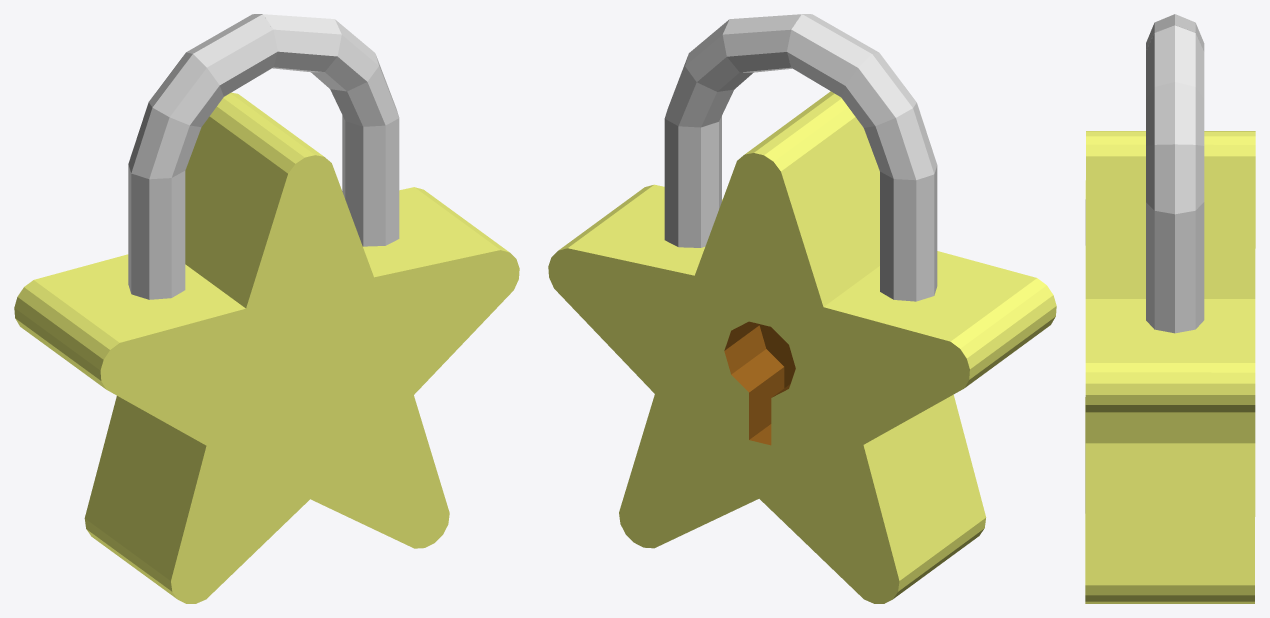
Rendered from StarLock.glb.
3 renders of one model, left to right at view 1: azimuth 30°, elevation 25°; view 2: azimuth 150°, elevation 25°; view 3: azimuth 270°, elevation 25°, orthographic. The views are drawn at different scales.
Parts seen in each view (by area): view 1: Lock, Cylinder; view 2: Lock, Cylinder; view 3: Lock, Cylinder.
Boxes of the visible parts, x1=… form: Lock: x1=14, y1=92, x2=519, y2=603; Cylinder: x1=128, y1=14, x2=399, y2=299; Lock: x1=548, y1=91, x2=1056, y2=603; Cylinder: x1=664, y1=14, x2=937, y2=301; Lock: x1=1085, y1=131, x2=1255, y2=603; Cylinder: x1=1146, y1=14, x2=1204, y2=333.
Bounding box in the file's own units: 0.7745 × 0.9345 × 0.2769.
